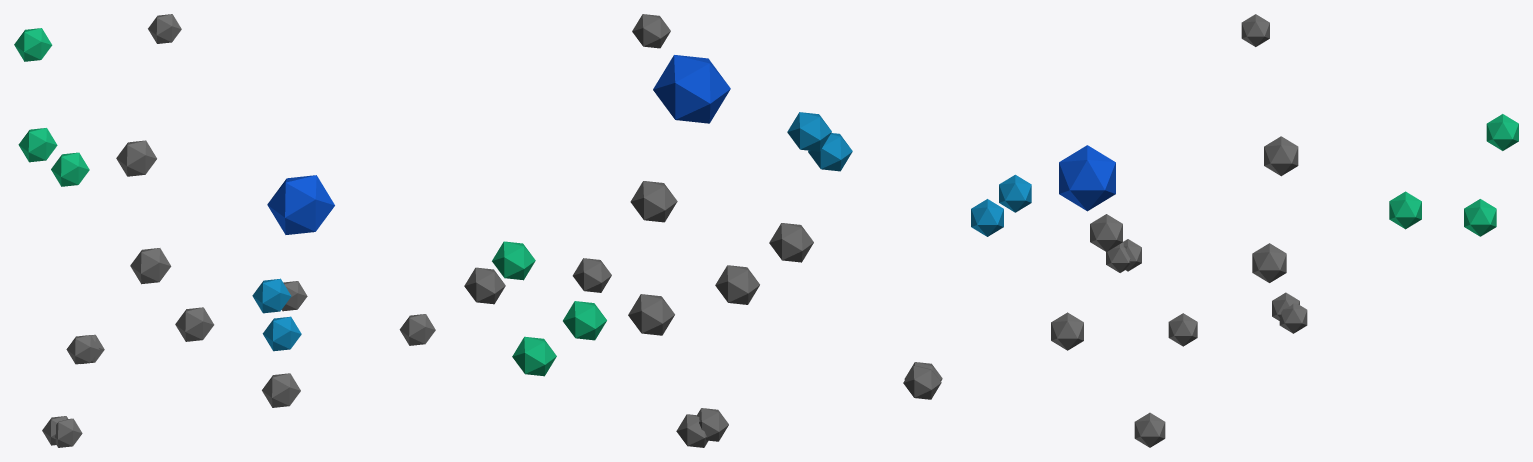
3 renders of one model, left to right at view 1: azimuth 30°, elevation 25°; view 2: azimuth 150°, elevation 25°; view 3: azimuth 270°, elevation 25°, orthographic. The views are drawn at different scales.
Parts seen in each view (by area): view 1: 04_09_06; view 2: 04_09_06; view 3: 04_09_06.
Boxes of the visible parts, x1=… form: 04_09_06: x1=14, y1=14, x2=435, y2=447; 04_09_06: x1=464, y1=14, x2=942, y2=447; 04_09_06: x1=971, y1=14, x2=1518, y2=447.
Bounding box in the file's own units: 0.4819 × 0.403 × 0.5883.
